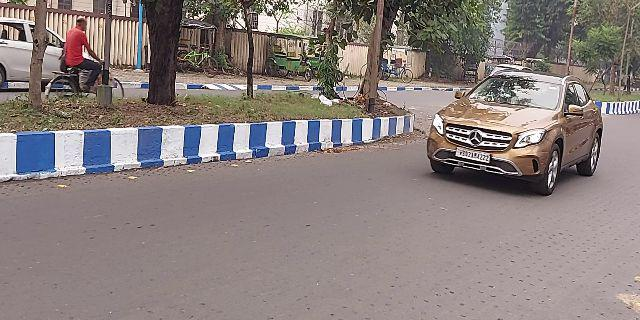Car: (414, 71, 608, 192)
